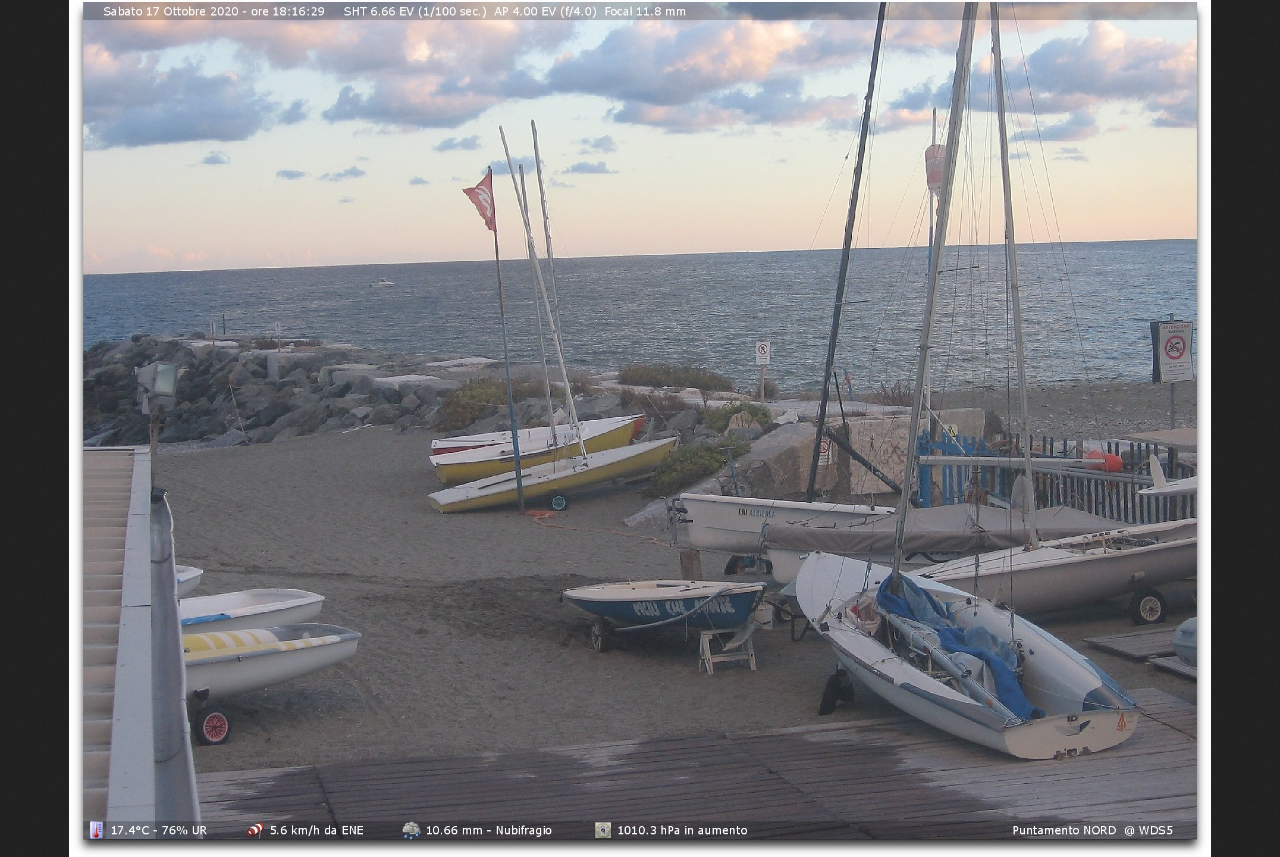maybe: (465, 165, 498, 235)
